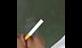Cigarette: (24, 18, 44, 40)
